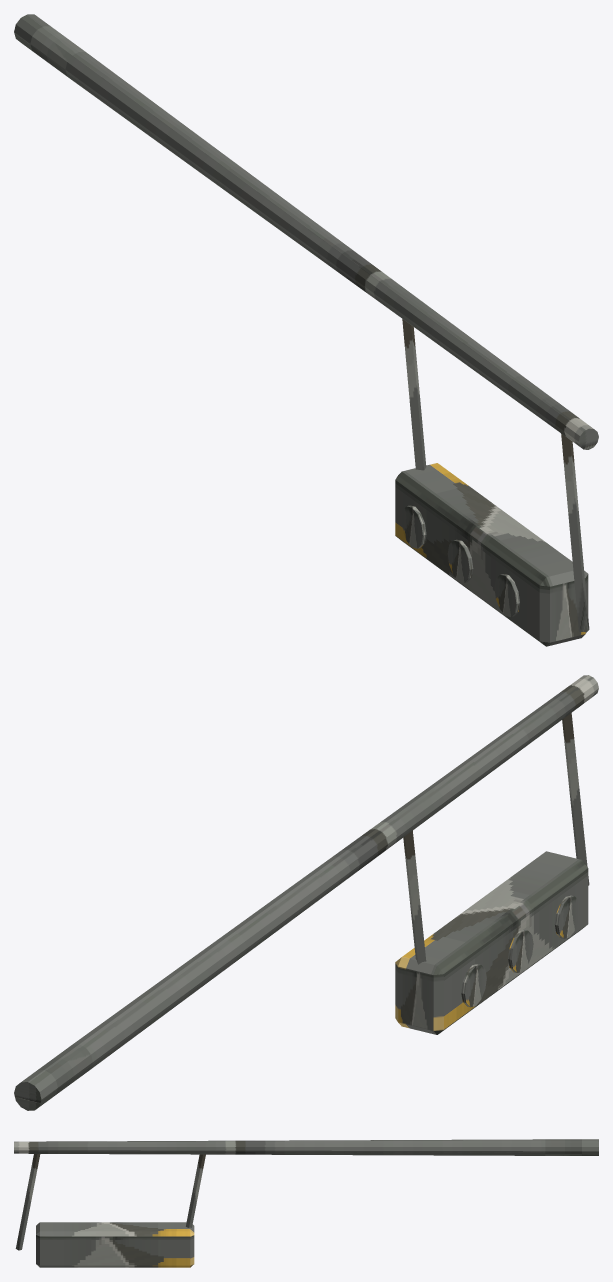
File: pz_street_pole_22.obj
3 views of the same model, one above another, from view 1: azimuth 30°, elevation 25°; view 2: azimuth 150°, elevation 25°; view 3: azimuth 270°, elevation 25° (orthographic). The views are drawn at different scales.
Visible parts, largest first — view 1: pz_street_pole_22_|_tapered_native_street_pole, pz_street_pole_22_|_native_traffic_signal_housing, pz_street_pole_22_|_traffic_light_support_arm.001, pz_street_pole_22_|_traffic_light_support_arm, pz_street_pole_22_|_signal_light_lens.002, pz_street_pole_22_|_signal_light_lens.001, pz_street_pole_22_|_signal_light_lens; view 2: pz_street_pole_22_|_tapered_native_street_pole, pz_street_pole_22_|_native_traffic_signal_housing, pz_street_pole_22_|_traffic_light_support_arm.001, pz_street_pole_22_|_traffic_light_support_arm, pz_street_pole_22_|_signal_light_lens.002, pz_street_pole_22_|_signal_light_lens, pz_street_pole_22_|_signal_light_lens.001; view 3: pz_street_pole_22_|_tapered_native_street_pole, pz_street_pole_22_|_native_traffic_signal_housing, pz_street_pole_22_|_traffic_light_support_arm.001, pz_street_pole_22_|_traffic_light_support_arm.
Boxes of the visible parts, x1,y1,x2,y2 form: pz_street_pole_22_|_tapered_native_street_pole: (14, 14, 598, 449); pz_street_pole_22_|_native_traffic_signal_housing: (395, 463, 588, 646); pz_street_pole_22_|_traffic_light_support_arm.001: (561, 433, 589, 631); pz_street_pole_22_|_traffic_light_support_arm: (402, 319, 426, 470); pz_street_pole_22_|_signal_light_lens.002: (401, 505, 426, 548); pz_street_pole_22_|_signal_light_lens.001: (447, 539, 473, 582); pz_street_pole_22_|_signal_light_lens: (494, 574, 519, 616); pz_street_pole_22_|_tapered_native_street_pole: (14, 675, 598, 1110); pz_street_pole_22_|_native_traffic_signal_housing: (395, 851, 588, 1034); pz_street_pole_22_|_traffic_light_support_arm.001: (562, 713, 589, 885); pz_street_pole_22_|_traffic_light_support_arm: (403, 830, 426, 964); pz_street_pole_22_|_signal_light_lens.002: (461, 964, 486, 1007); pz_street_pole_22_|_signal_light_lens: (555, 895, 580, 938); pz_street_pole_22_|_signal_light_lens.001: (508, 929, 533, 972); pz_street_pole_22_|_tapered_native_street_pole: (14, 1139, 598, 1155); pz_street_pole_22_|_native_traffic_signal_housing: (36, 1222, 194, 1267); pz_street_pole_22_|_traffic_light_support_arm.001: (15, 1154, 40, 1250); pz_street_pole_22_|_traffic_light_support_arm: (186, 1154, 205, 1227).
Bounding box in the file's own units: 0.139 × 0.556 × 2.4.
5 materials, 5 textured.
